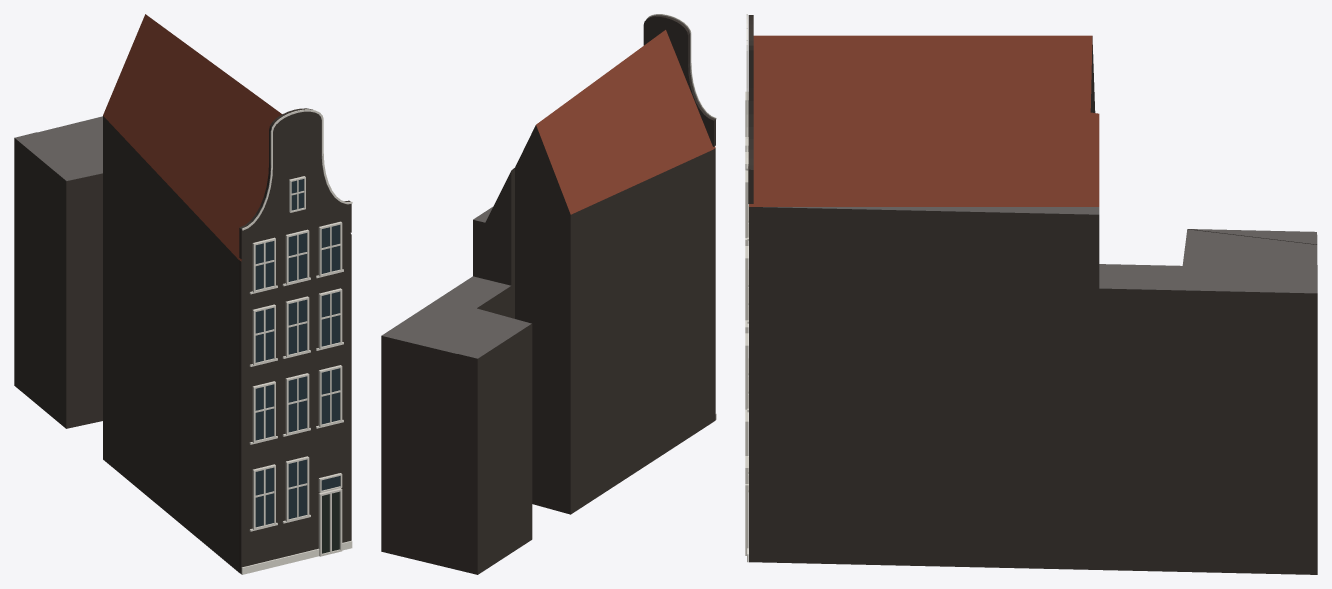
3 renders of one model, left to right at view 1: azimuth 30°, elevation 25°; view 2: azimuth 150°, elevation 25°; view 3: azimuth 270°, elevation 25°, orthographic. The views are drawn at different scales.
Parts seen in each view (by area): view 1: spec-0363100012171304; view 2: spec-0363100012171304; view 3: spec-0363100012171304.
Boxes of the visible parts, box(x1,y1,x2,y2) form: spec-0363100012171304: box(14, 14, 352, 574); spec-0363100012171304: box(381, 14, 716, 574); spec-0363100012171304: box(745, 14, 1317, 574).
Bounding box in the file's own units: 6.06 × 19.57 × 19.83.
